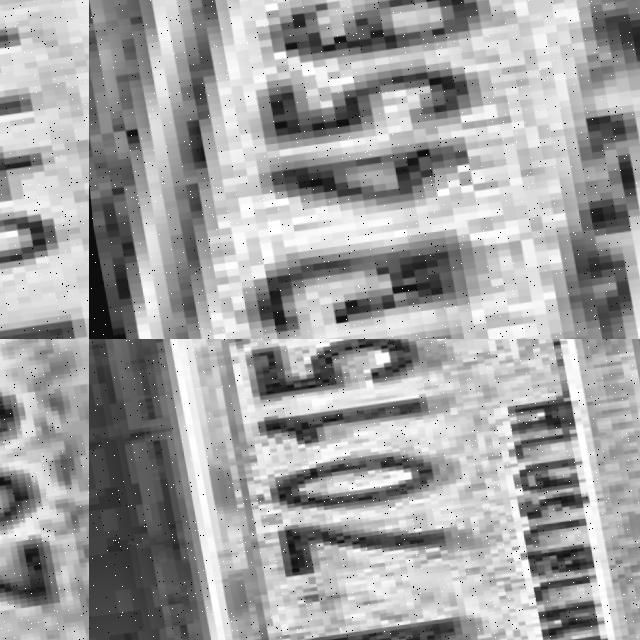license-plate: (89, 0, 640, 339), (111, 339, 640, 640), (0, 0, 89, 339), (0, 339, 89, 640)
